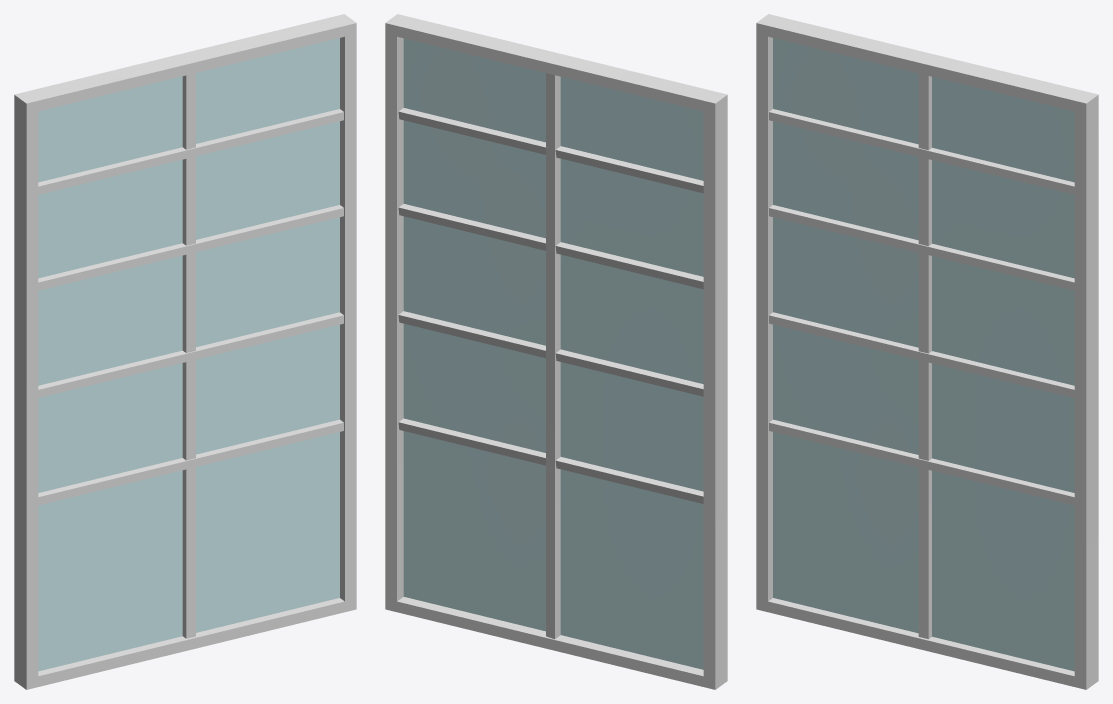
File: window_040.fbx
3 renders of one model, left to right at view 1: azimuth 30°, elevation 25°; view 2: azimuth 150°, elevation 25°; view 3: azimuth 330°, elevation 25°, orthographic.
Visible parts, largest first — view 1: window_040; view 2: window_040; view 3: window_040.
Part boxes in pixels (left/top/right/bottom): window_040: left=14, top=14, right=356, bottom=689; window_040: left=385, top=14, right=727, bottom=689; window_040: left=756, top=14, right=1098, bottom=689.
Size of the model in its own units: 192 by 12.39 by 325.
